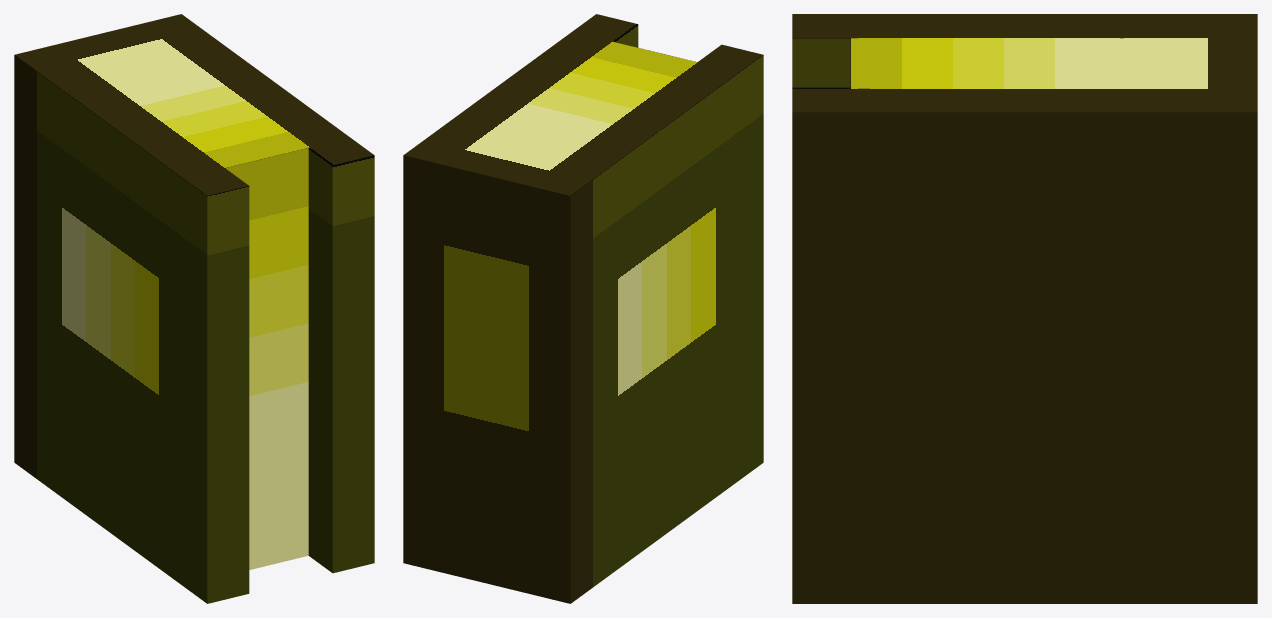
The model's file is book_0x282_02.glb.
The picture shows the model from 3 angles, left to right: view 1: azimuth 30°, elevation 25°; view 2: azimuth 150°, elevation 25°; view 3: azimuth 270°, elevation 25°; orthographic projection. The views are drawn at different scales.
Parts seen in each view (by area): view 1: Cube; view 2: Cube; view 3: Cube.
Part boxes in pixels (box(x1,y1,x2,y2)): Cube: box(14, 14, 374, 603); Cube: box(403, 14, 763, 603); Cube: box(792, 14, 1257, 603).
Size of the model in its own units: 0.25 by 0.5833 by 0.5.
Materials: 1 (1 with a texture image).
